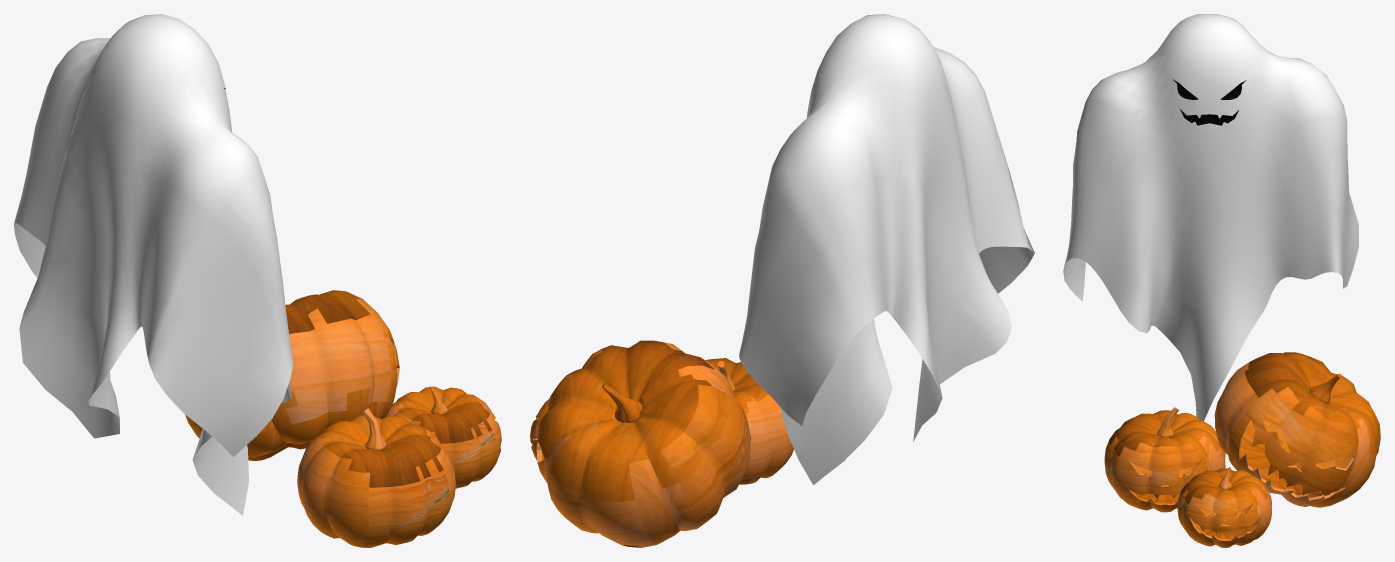
3 renders of one model, left to right at view 1: azimuth 30°, elevation 25°; view 2: azimuth 150°, elevation 25°; view 3: azimuth 270°, elevation 25°, orthographic. The views are drawn at different scales.
Parts seen in each view (by area): view 1: Gost, Pumpkin2, Pumpkin3, Pumpkin4; view 2: Gost, Pumpkin3, Pumpkin2; view 3: Gost, Pumpkin3, Pumpkin2, Pumpkin4.
Boxes of the visible parts, x1,y1,x2,y2 form: Gost: (14,14,292,515); Pumpkin2: (297,407,455,547); Pumpkin3: (185,290,399,460); Pumpkin4: (384,386,501,488); Gost: (739,14,1034,485); Pumpkin3: (536,340,750,547); Pumpkin2: (705,358,793,484); Gost: (1063,14,1358,421); Pumpkin3: (1214,352,1380,507); Pumpkin2: (1104,407,1225,512); Pumpkin4: (1177,467,1271,547).
Size of the model in its own units: 18.39 by 20.98 by 14.76.
4 materials, 4 textured.
